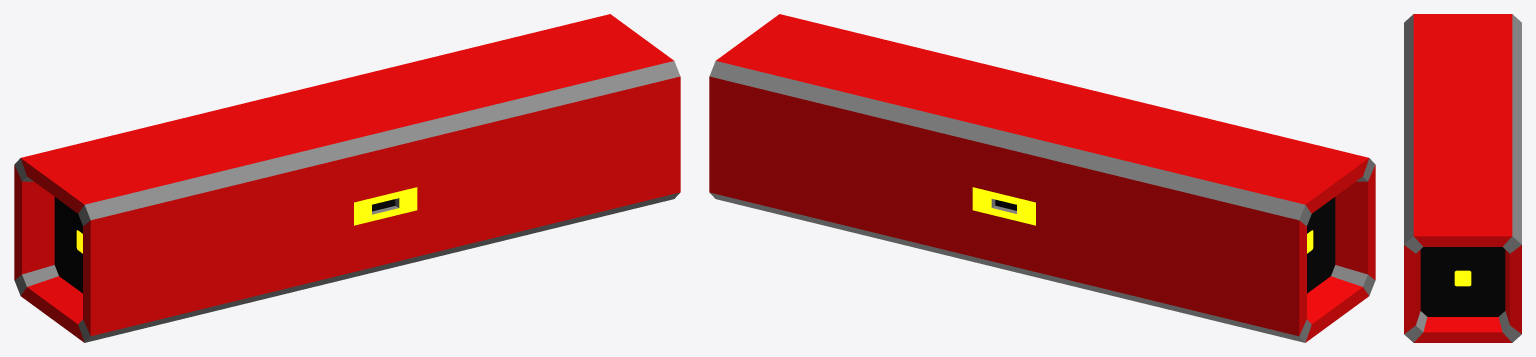
The model's file is Connector2.fbx.
The picture shows the model from 3 angles, left to right: view 1: azimuth 30°, elevation 25°; view 2: azimuth 150°, elevation 25°; view 3: azimuth 270°, elevation 25°; orthographic projection. The views are drawn at different scales.
Parts seen in each view (by area): view 1: Connector2; view 2: Connector2; view 3: Connector2.
Part boxes in pixels (x1,y1,x2,y2): Connector2: (14,14,680,342); Connector2: (709,14,1375,342); Connector2: (1404,14,1521,342).
Bounding box in the file's own units: 16.16 × 3.62 × 3.62.
